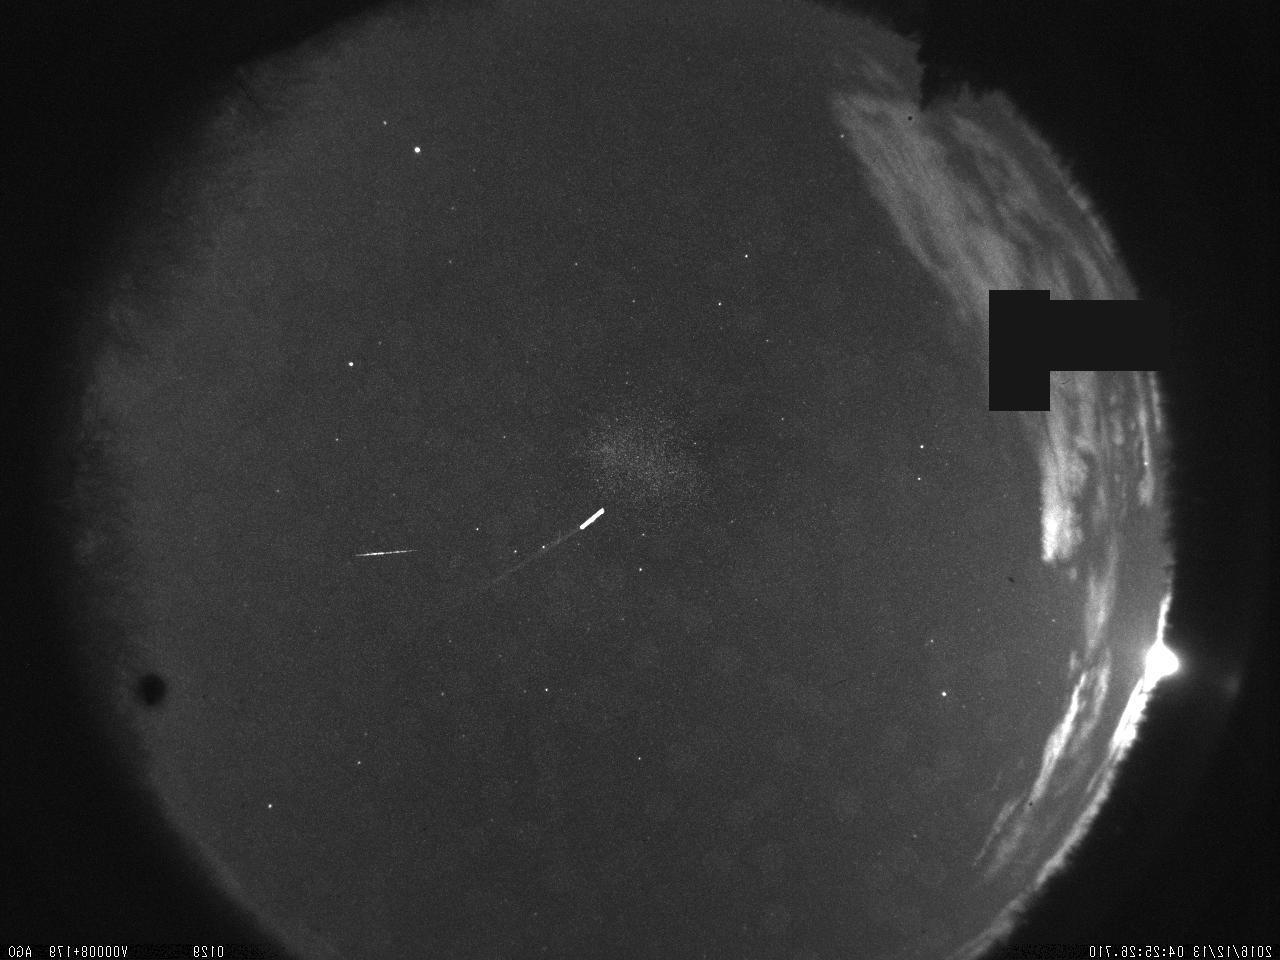meteor: (349, 547, 422, 564)
satelite: (572, 497, 614, 542)
